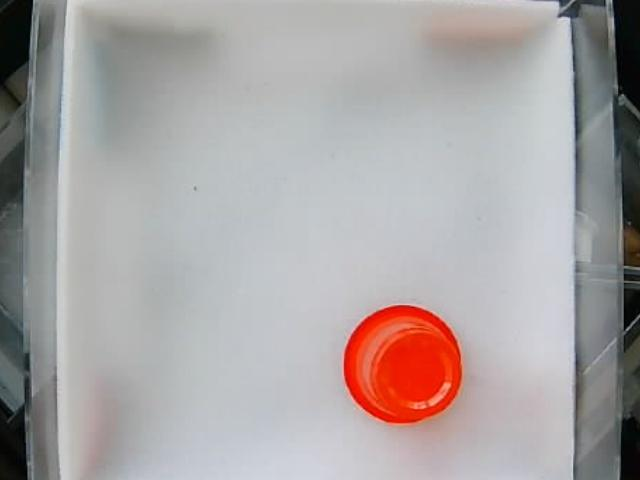Cup: (342, 301, 464, 425)
